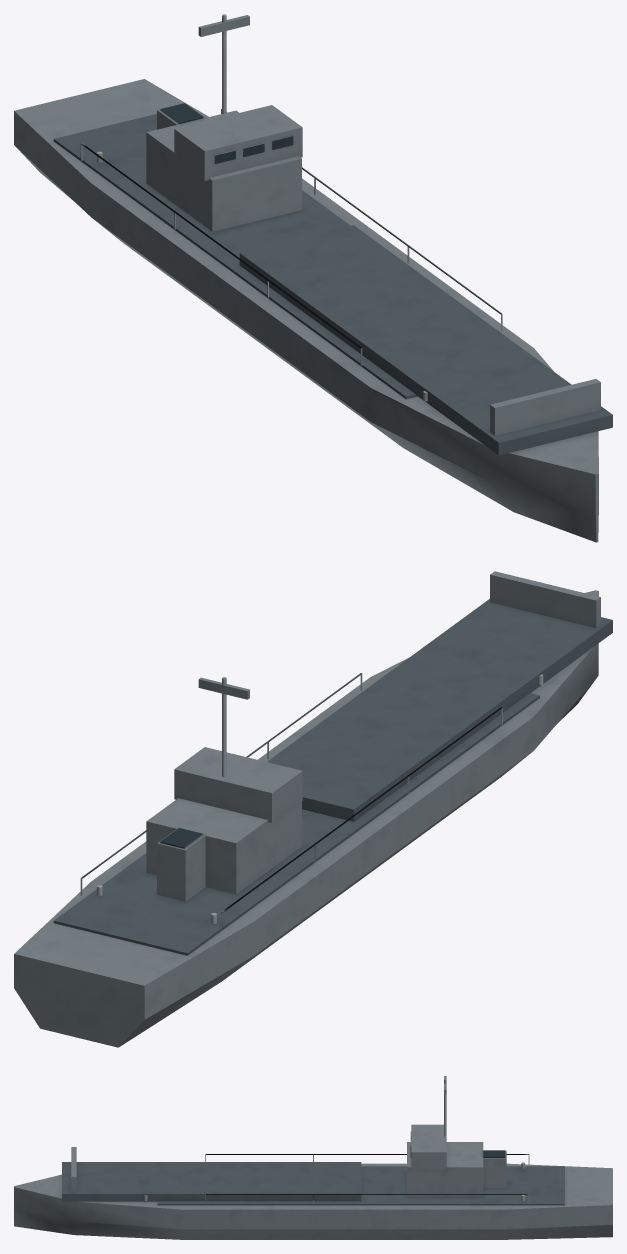
Rendered from naval-landing-ship.fbx.
3 renders of one model, top to bottom at view 1: azimuth 30°, elevation 25°; view 2: azimuth 150°, elevation 25°; view 3: azimuth 270°, elevation 25°, orthographic. The views are drawn at different scales.
Visible parts, largest first — view 1: naval-landing-ship; view 2: naval-landing-ship; view 3: naval-landing-ship.
Boxes of the visible parts, <box> form: naval-landing-ship: <box>14,14,612,542</box>; naval-landing-ship: <box>14,571,612,1047</box>; naval-landing-ship: <box>14,1076,612,1239</box>.
Size of the model in its own units: 40 by 59.5 by 220.
1 material, 1 textured.
